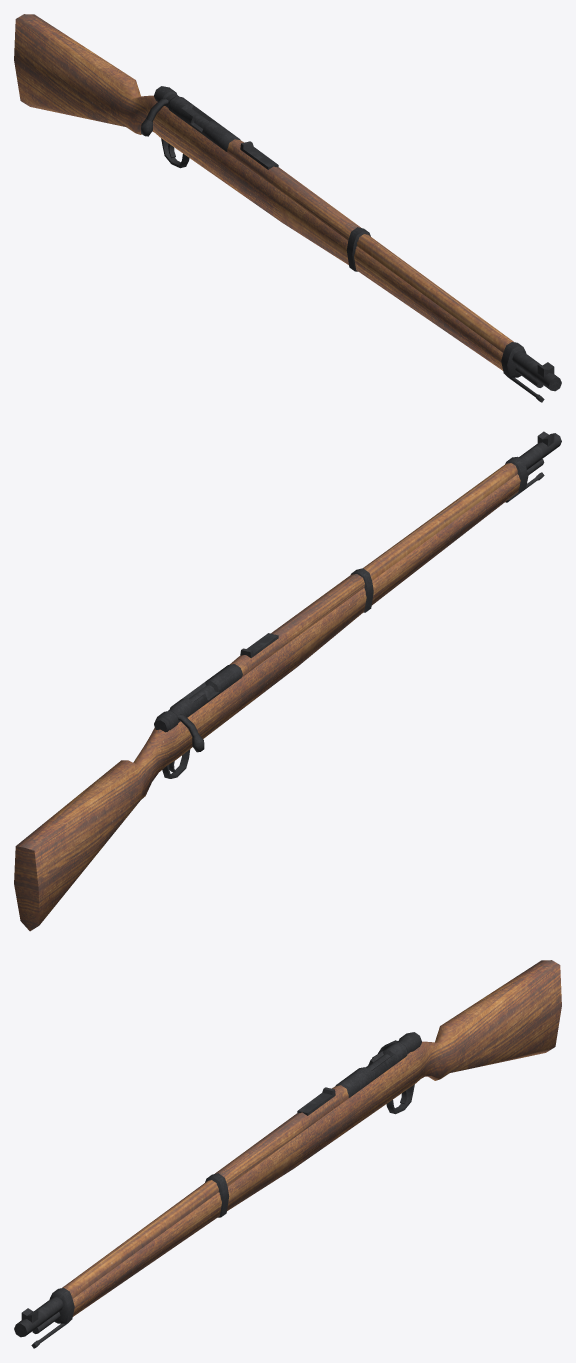
3 views of the same model, one above another, from view 1: azimuth 30°, elevation 25°; view 2: azimuth 150°, elevation 25°; view 3: azimuth 330°, elevation 25° (orthographic).
Parts seen in each view (by area): view 1: 1219_Mauser1898; view 2: 1219_Mauser1898; view 3: 1219_Mauser1898.
Part boxes in pixels (x1=…): 1219_Mauser1898: x1=14, y1=14, x2=561, y2=402; 1219_Mauser1898: x1=14, y1=431, x2=561, y2=931; 1219_Mauser1898: x1=14, y1=960, x2=561, y2=1348.
Bounding box in the file's own units: 5.98 × 16.07 × 126.
Materials: 1 (1 with a texture image).
